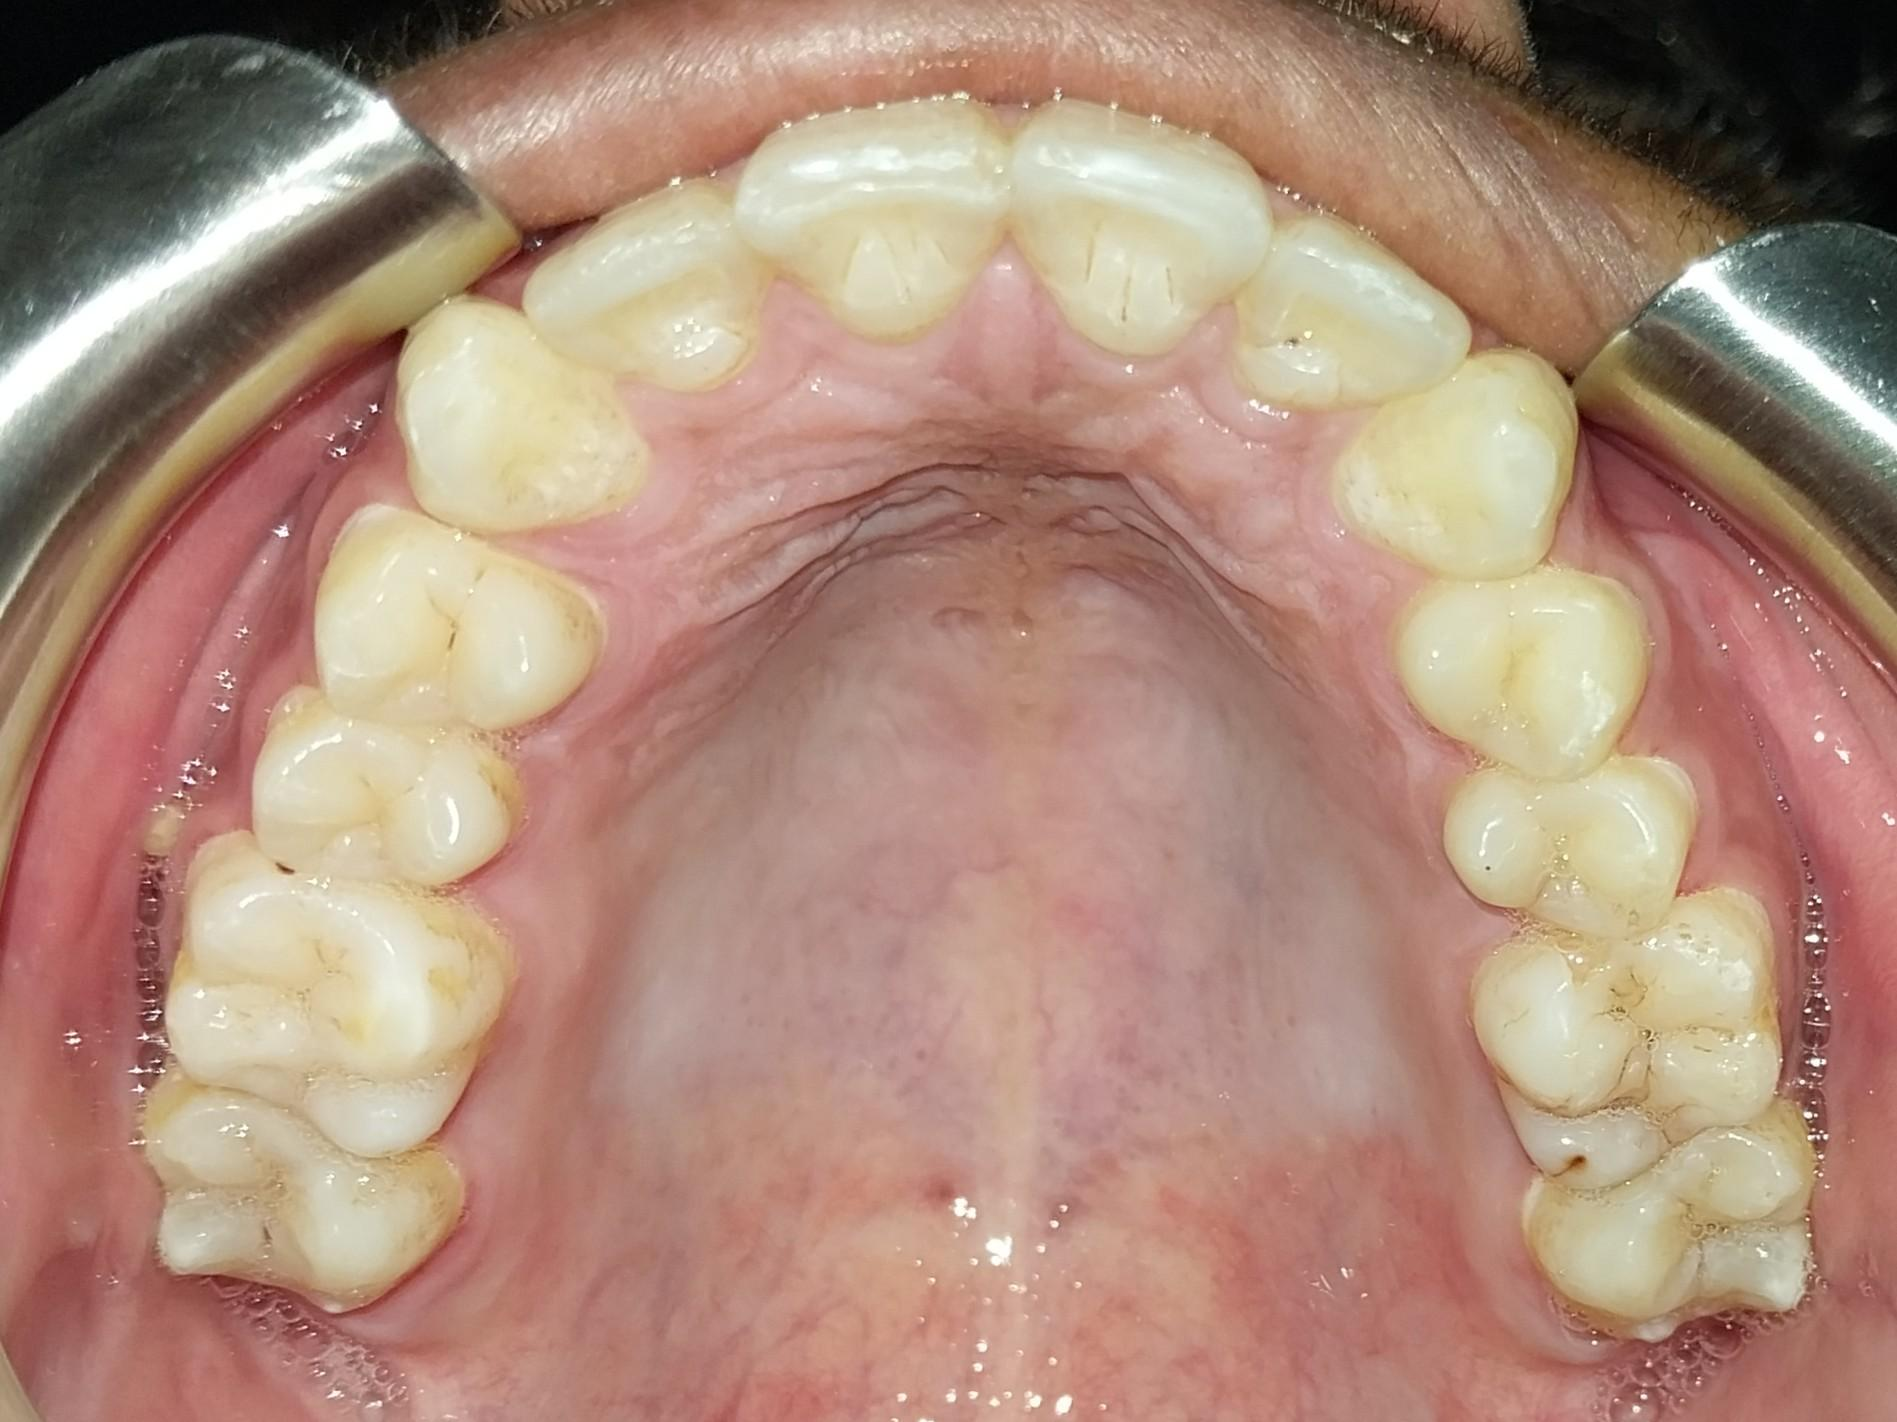D: (1480, 930, 1787, 1198)
